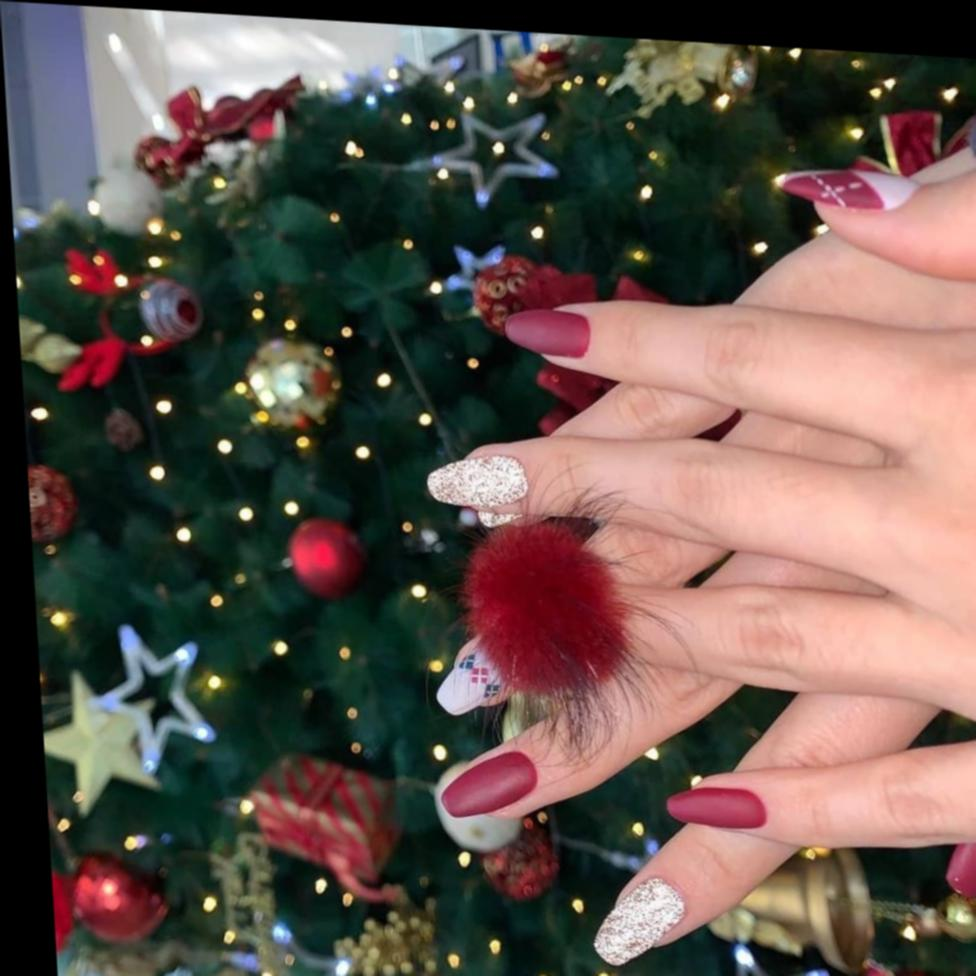nail: (588, 871, 689, 970), (436, 744, 539, 821), (772, 161, 922, 212), (423, 448, 530, 511), (663, 782, 767, 831), (501, 304, 591, 358)
